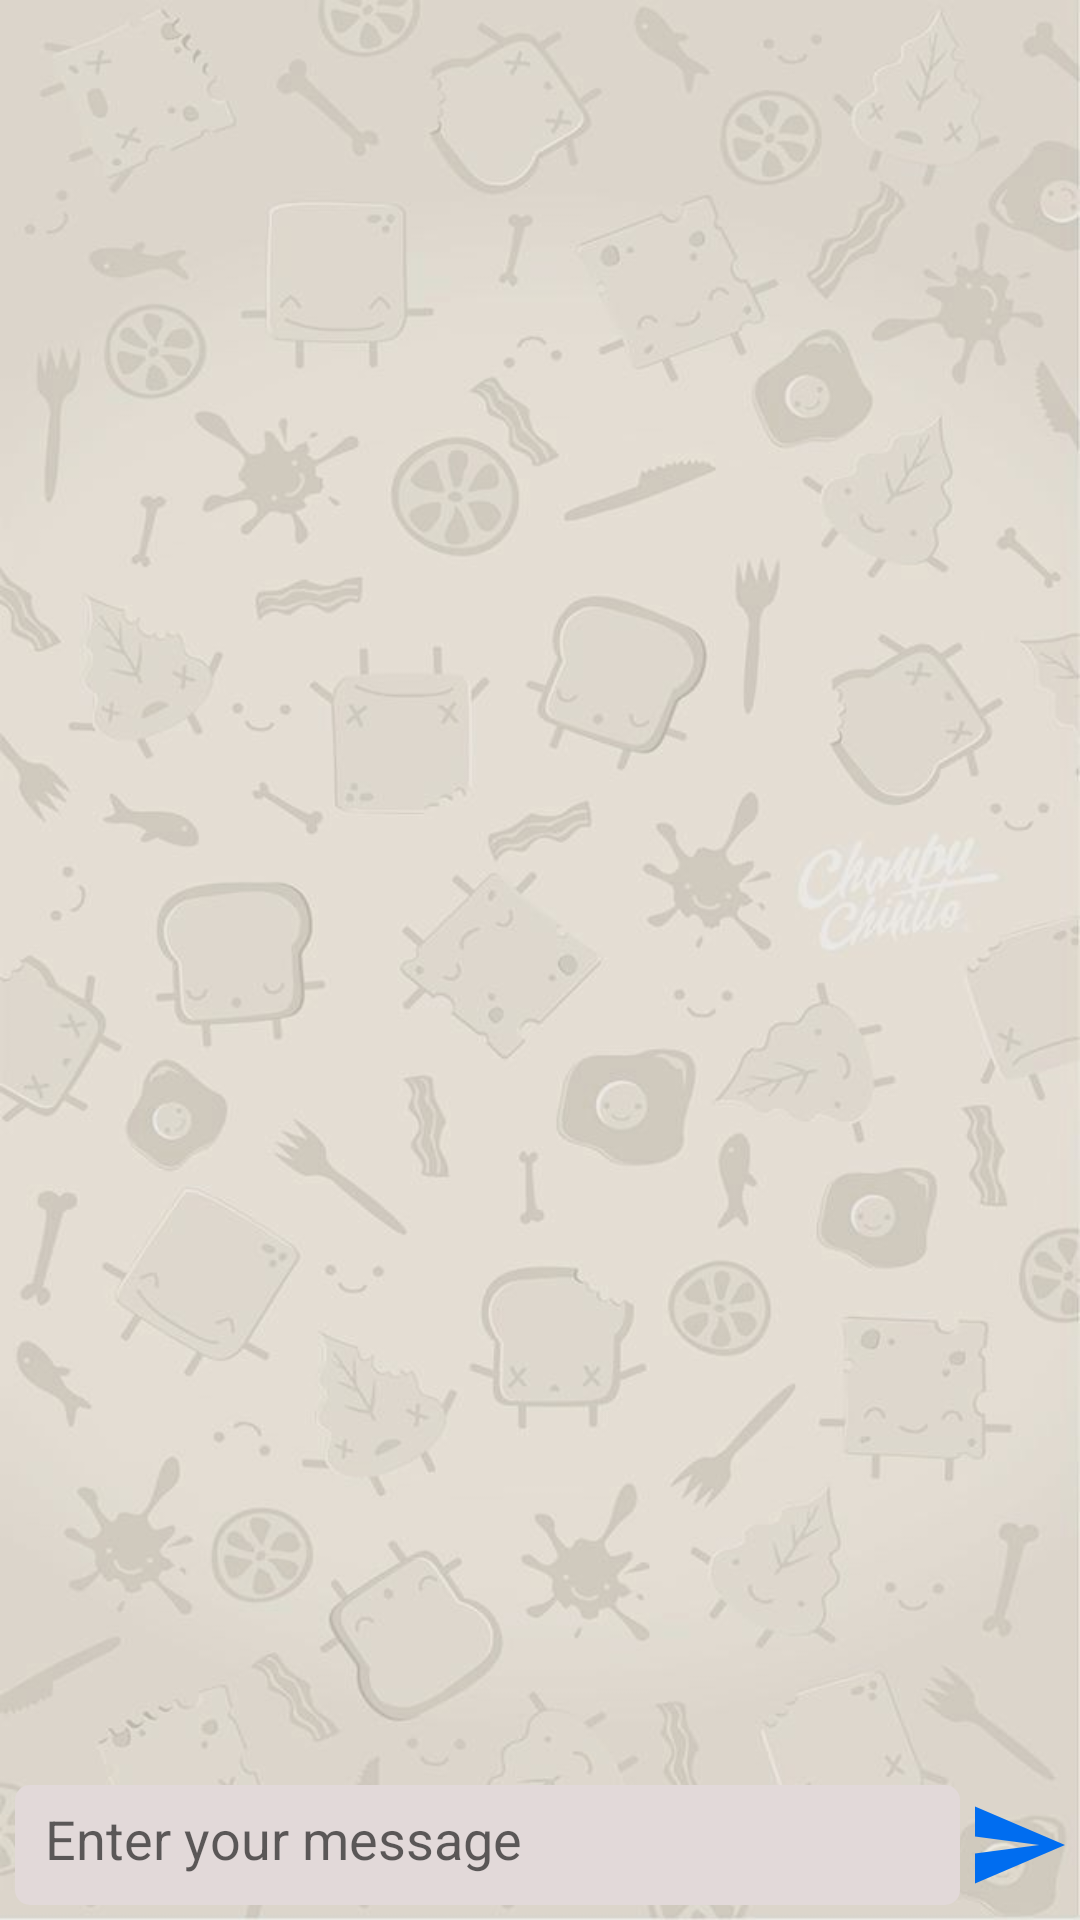

Locate icon controls on the screen. Image size 1080px x 1920px, boxes as (x1, y1, x2, y2).
send: (975, 1806, 1065, 1890)
